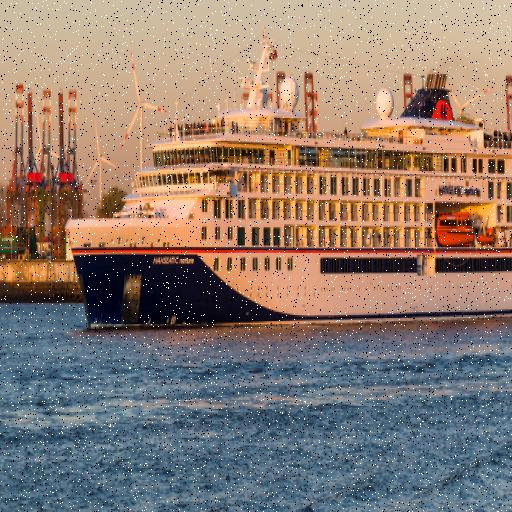cruises: (63, 24, 512, 337)
